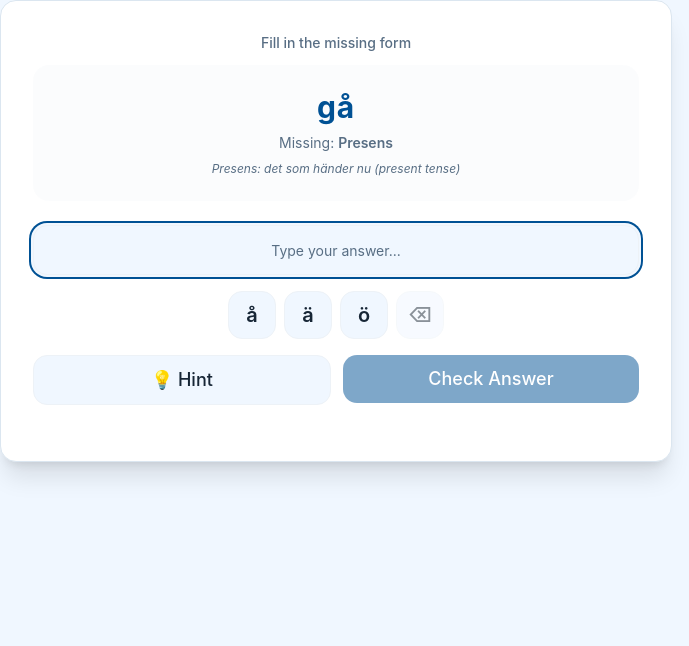
Test: PracticeCard - typing mode › types and matches Swedish å/ä/ö characters exactly
This screenshot has width=689, height=646.
Type "går" into the field with placeholder "Type your answer..." at (336, 250), box [33, 225, 639, 275]
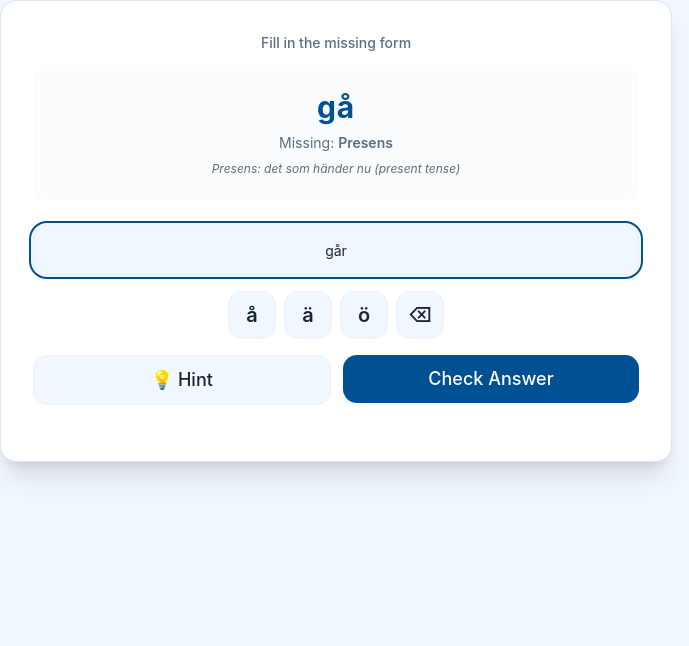
Click the button "Check Answer" at (491, 379), box [343, 355, 639, 403]
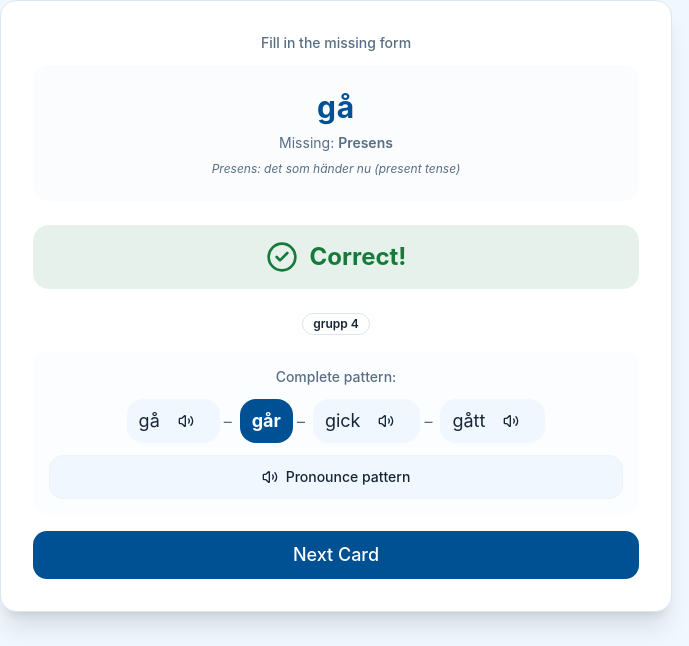
Expected: the text "Correct!" is shown, [310, 241, 406, 273]
